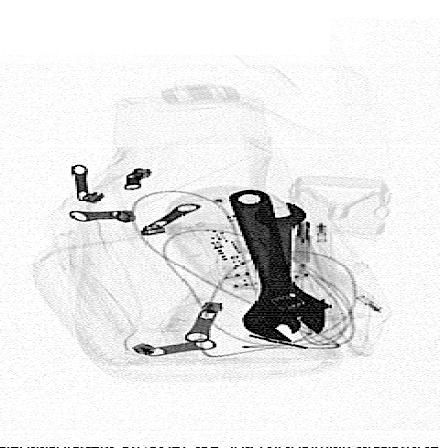Wrench: (230, 189, 327, 342), (252, 202, 306, 335)
